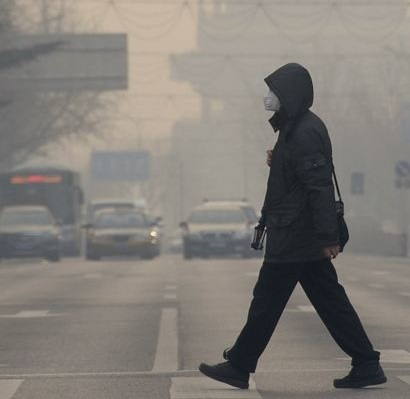person: (198, 61, 389, 392)
